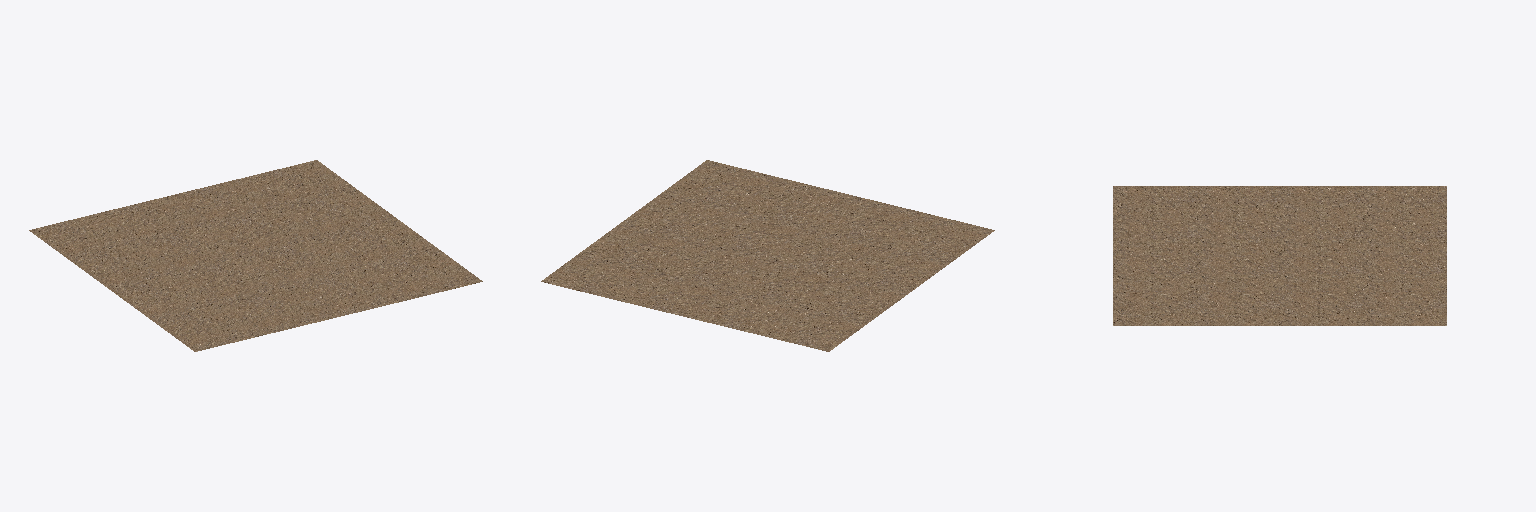
3 renders of one model, left to right at view 1: azimuth 30°, elevation 25°; view 2: azimuth 150°, elevation 25°; view 3: azimuth 270°, elevation 25°, orthographic.
Visible parts, largest first — view 1: Plane.001_Plane.002; view 2: Plane.001_Plane.002; view 3: Plane.001_Plane.002.
Part boxes in pixels (bbox=[...]): Plane.001_Plane.002: bbox=[29, 160, 482, 351]; Plane.001_Plane.002: bbox=[541, 160, 994, 351]; Plane.001_Plane.002: bbox=[1113, 186, 1446, 325].
Size of the model in its own units: 16 by 0 by 16.
Materials: 1 (1 with a texture image).